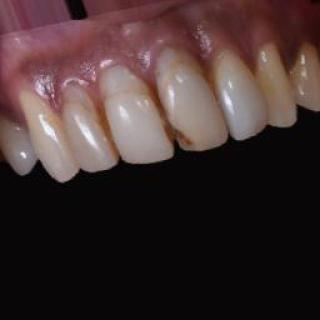maligned: (251, 39, 307, 135)
stains: (154, 96, 191, 150), (99, 111, 119, 154)
